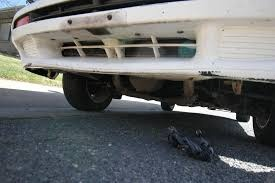Scratch: (198, 67, 273, 84)
